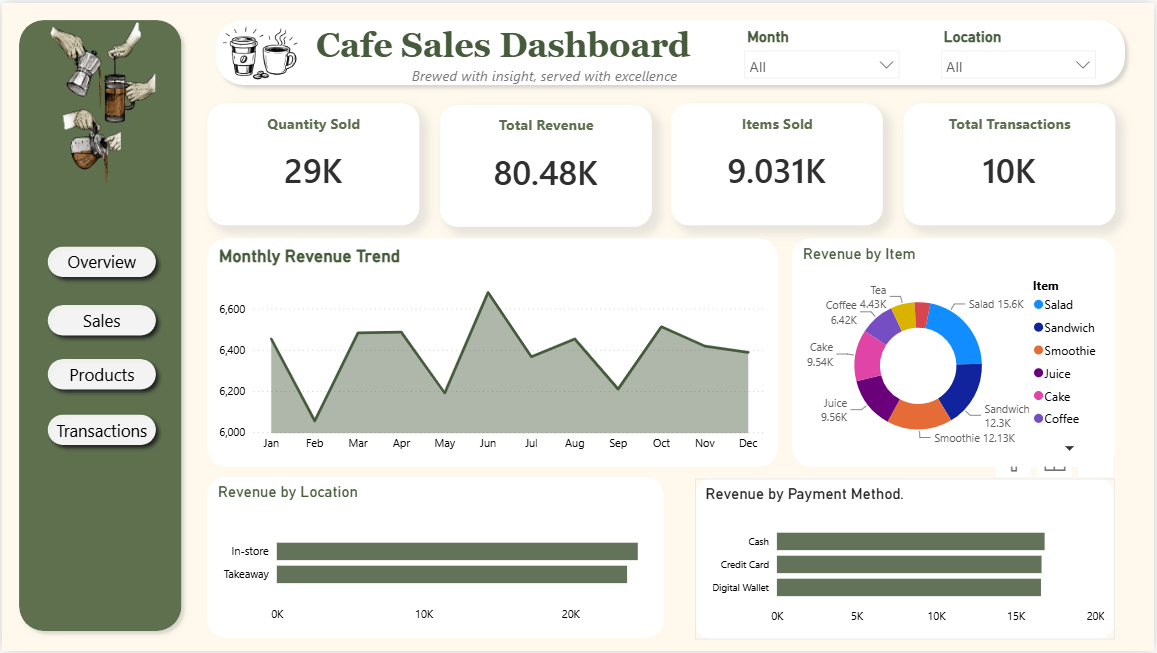

The page's visual inventory and layout, read from the dashboard file:
{"tool":"powerbi","page":{"name":"Dashboard","canvas":[1280,720],"ordinal":0},"visuals":[{"type":"shape","box":[10,10,198.3,696.7],"z":0},{"type":"shape","box":[228.3,10,1028.3,90],"z":1000},{"type":"textbox","box":[208,15,592,80],"z":2000},{"type":"cardVisual","title":"Total Revenue","fields":{"Data":["Sum(cleaned_cafe_sales.Total_spent_calculated)"]},"box":[486.7,113.3,235,135],"z":3000},{"type":"cardVisual","title":"Total Transactions","fields":{"Data":["CountNonNull(cleaned_cafe_sales.Transaction_ID)"]},"box":[1001.7,111.7,235,135],"z":4000},{"type":"cardVisual","title":"Items Sold","fields":{"Data":["CountNonNull(cleaned_cafe_sales.Item)"]},"box":[743.3,111.7,235,135],"z":5000},{"type":"cardVisual","title":"Quantity Sold","fields":{"Data":["Sum(cleaned_cafe_sales.Quantity)"]},"box":[228.3,111.7,235,135],"z":6000},{"type":"image","box":[228.3,0,118.3,111.7],"z":7000},{"type":"slicer","fields":{"Values":["cleaned_cafe_sales.Transaction_Date.Variation.Date Hierarchy.Month"]},"box":[815,21.7,191.7,63.3],"z":8000},{"type":"slicer","fields":{"Values":["cleaned_cafe_sales.Location"]},"box":[1033.3,21.7,191.7,63.3],"z":9000},{"type":"lineChart","title":"Monthly Revenue Trend","fields":{"Y":["Sum(cleaned_cafe_sales.Total_spent_calculated)"],"Category":["cleaned_cafe_sales.Month Short"]},"box":[228.3,261.7,633.3,253.3],"z":10000},{"type":"barChart","title":"Revenue by Location","fields":{"Category":["cleaned_cafe_sales.Location"],"Y":["Sum(cleaned_cafe_sales.Total_spent_calculated)"]},"box":[228.3,526.7,506.7,178.3],"z":10001},{"type":"clusteredBarChart","title":"Revenue by Payment Method.","fields":{"Category":["cleaned_cafe_sales.Payment_Method"],"Y":["Sum(cleaned_cafe_sales.Total_spent_calculated)"]},"box":[770,528.3,466.7,178.3],"z":10003},{"type":"donutChart","title":"Revenue by Item","fields":{"Category":["cleaned_cafe_sales.Item"],"Y":["Sum(cleaned_cafe_sales.Total_spent_calculated)"]},"box":[878.3,261.7,358.3,253.3],"z":10004},{"type":"image","box":[11.7,20,198.3,183.3],"z":10005},{"type":"actionButton","box":[41.7,261.7,138.3,51.7],"z":10006},{"type":"actionButton","box":[41.7,326.7,138.3,51.7],"z":10007},{"type":"actionButton","box":[41.7,448.3,138.3,51.7],"z":10008},{"type":"actionButton","box":[41.7,386.7,138.3,51.7],"z":10009}]}

Visuals, with their boxes in screenshot pixels (x1, y1, x2, y2), scaled from the page's 1280x720 canvas onto the 1157x653 screenshot:
shape: Rect(9, 9, 188, 641)
shape: Rect(206, 9, 1136, 91)
textbox: Rect(188, 14, 723, 86)
"Total Revenue" cardVisual: Rect(440, 103, 652, 225)
"Total Transactions" cardVisual: Rect(905, 101, 1118, 224)
"Items Sold" cardVisual: Rect(672, 101, 884, 224)
"Quantity Sold" cardVisual: Rect(206, 101, 419, 224)
image: Rect(206, 0, 313, 101)
slicer - cleaned_cafe_sales.Transaction_Date.Variation.Date Hierarchy.Month: Rect(737, 20, 910, 77)
slicer - cleaned_cafe_sales.Location: Rect(934, 20, 1107, 77)
"Monthly Revenue Trend" lineChart: Rect(206, 237, 779, 467)
"Revenue by Location" barChart: Rect(206, 478, 664, 639)
"Revenue by Payment Method." clusteredBarChart: Rect(696, 479, 1118, 641)
"Revenue by Item" donutChart: Rect(794, 237, 1118, 467)
image: Rect(11, 18, 190, 184)
actionButton: Rect(38, 237, 163, 284)
actionButton: Rect(38, 296, 163, 343)
actionButton: Rect(38, 407, 163, 453)
actionButton: Rect(38, 351, 163, 398)
